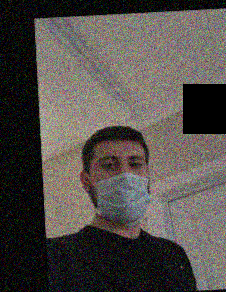with_mask: (91, 149, 150, 226)
